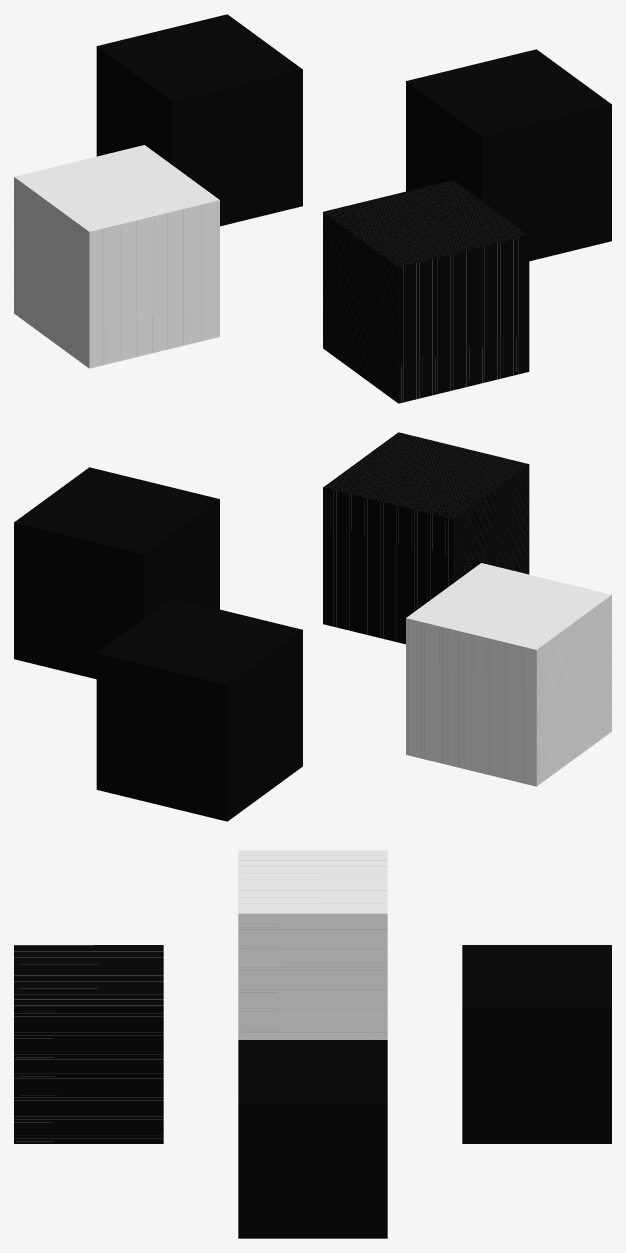
Rendered from HalfUVScrollPlanev5_Accesoryv1.fbx.
The picture shows the model from 3 angles, top to bottom: view 1: azimuth 30°, elevation 25°; view 2: azimuth 150°, elevation 25°; view 3: azimuth 270°, elevation 25°; orthographic projection.
Visible parts, largest first — view 1: Accessory01; view 2: Accessory01; view 3: Accessory01.
Boxes of the visible parts, x1=… form: Accessory01: x1=14, y1=14, x2=611, y2=403; Accessory01: x1=14, y1=432, x2=611, y2=821; Accessory01: x1=14, y1=850, x2=611, y2=1238.
Bounding box in the file's own units: 0.8 × 0.2 × 0.8.
Materials: 1 (1 with a texture image).
